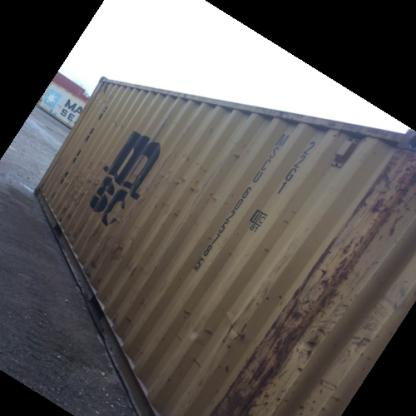Damage: (259, 270, 357, 410), (367, 139, 413, 243), (83, 230, 132, 280), (215, 349, 256, 402), (59, 166, 105, 205), (215, 294, 248, 348)
